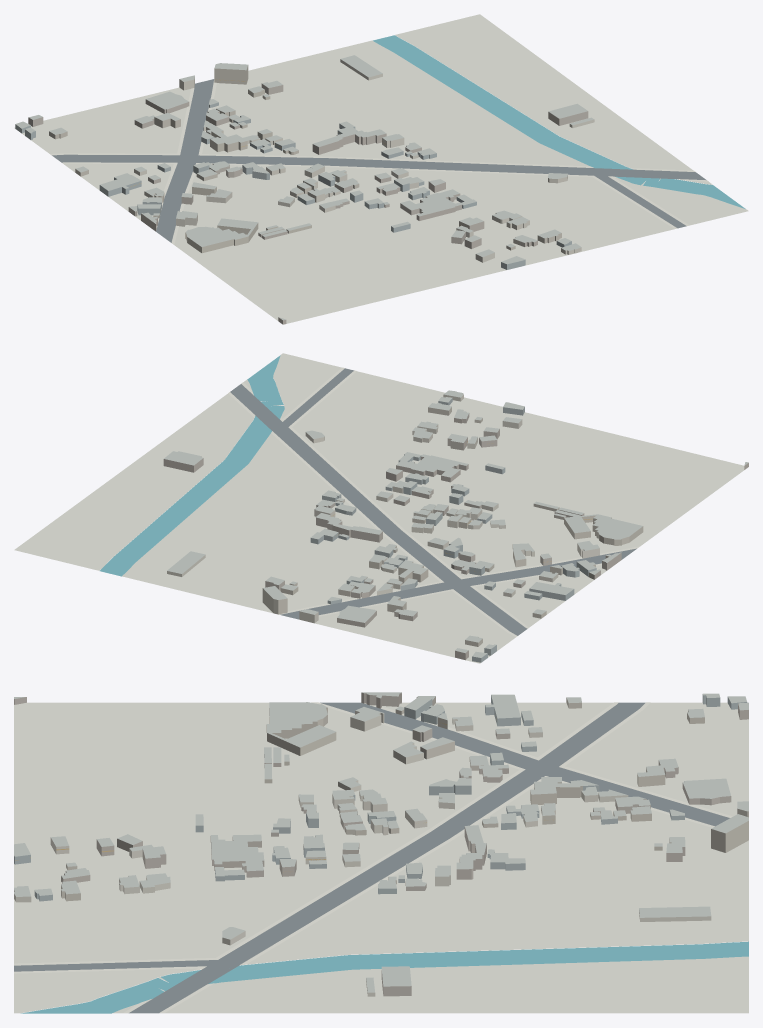
3 renders of one model, top to bottom at view 1: azimuth 30°, elevation 25°; view 2: azimuth 150°, elevation 25°; view 3: azimuth 270°, elevation 25°, orthographic. The views are drawn at different scales.
Parts seen in each view (by area): view 1: city; view 2: city; view 3: city.
Part boxes in pixels (x1,y1,x2,y2): city: [14, 14, 748, 324]; city: [14, 353, 748, 663]; city: [14, 692, 748, 1013].
Size of the model in its own units: 500 by 14.98 by 500.
